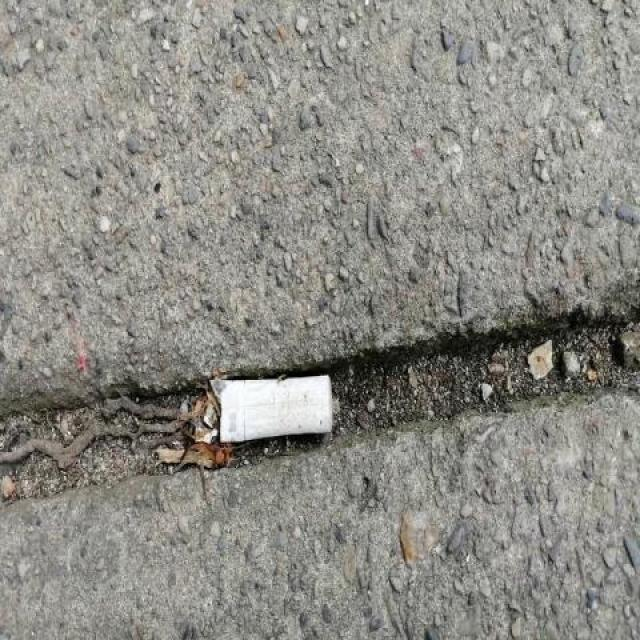non-organic waste: (208, 371, 343, 446)
